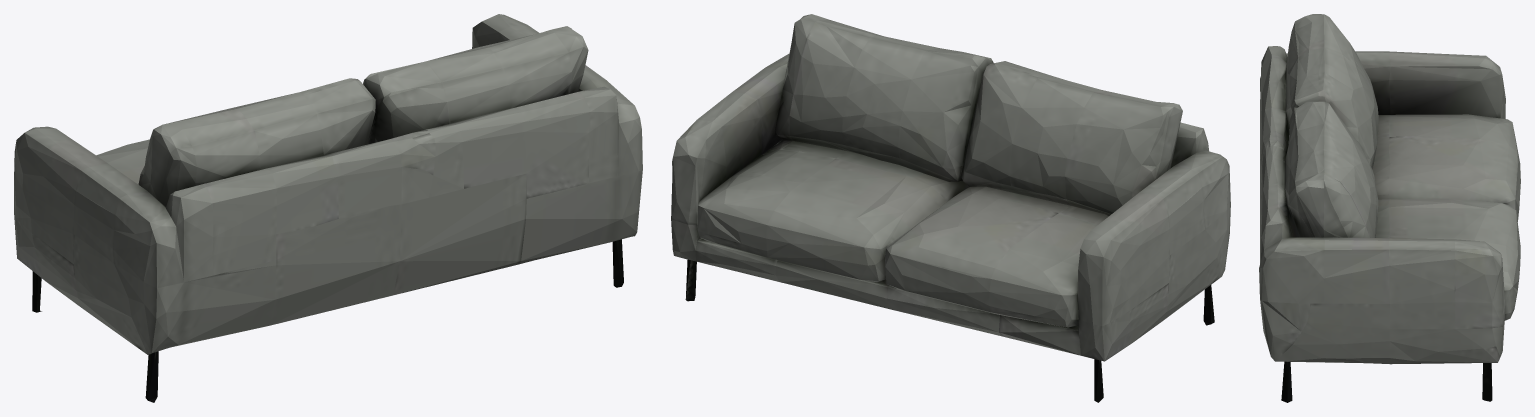
3 views of the same model, side by side, from view 1: azimuth 30°, elevation 25°; view 2: azimuth 150°, elevation 25°; view 3: azimuth 270°, elevation 25° (orthographic). The views are drawn at different scales.
Parts seen in each view (by area): view 1: geometry_0; view 2: geometry_0; view 3: geometry_0.
Boxes of the visible parts, box(x1,y1,x2,y2) form: geometry_0: box(14, 14, 642, 402); geometry_0: box(671, 14, 1230, 402); geometry_0: box(1259, 14, 1520, 402).
Bounding box in the file's own units: 1.77 × 0.859 × 0.9604.
1 material, 1 textured.
